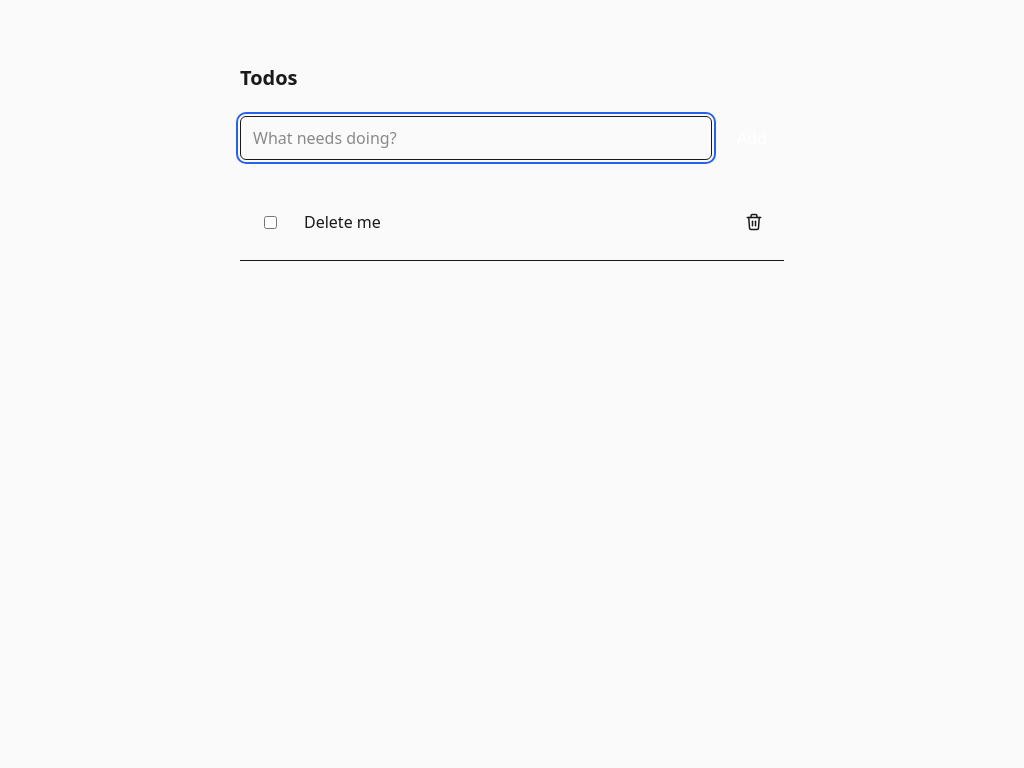
Test case: <App /> integration — full tree with mocked fetch › delete failure → modal stays open with InlineError, Retry succeeds → row removed, modal closes (AC8/9)
Expected: the text "Delete me" is shown, [304,211,381,233]
Click the button named "Delete todo: Delete me": (754, 222) [732,200,776,244]
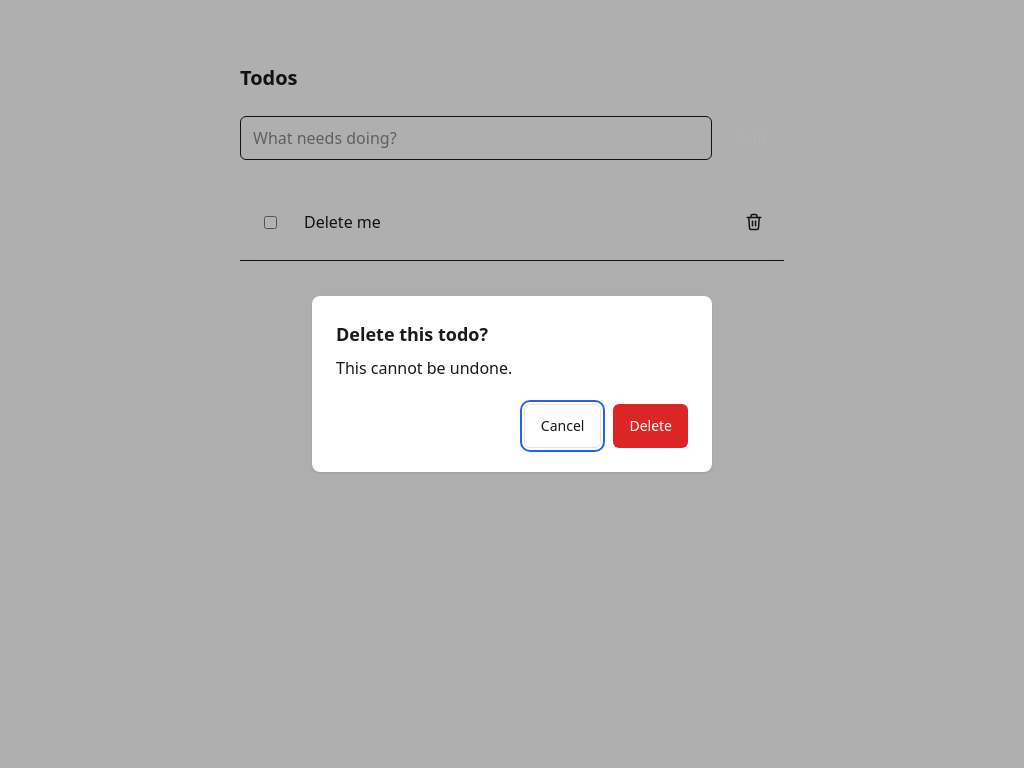
Click the button "Delete": (651, 426) [613,404,688,448]
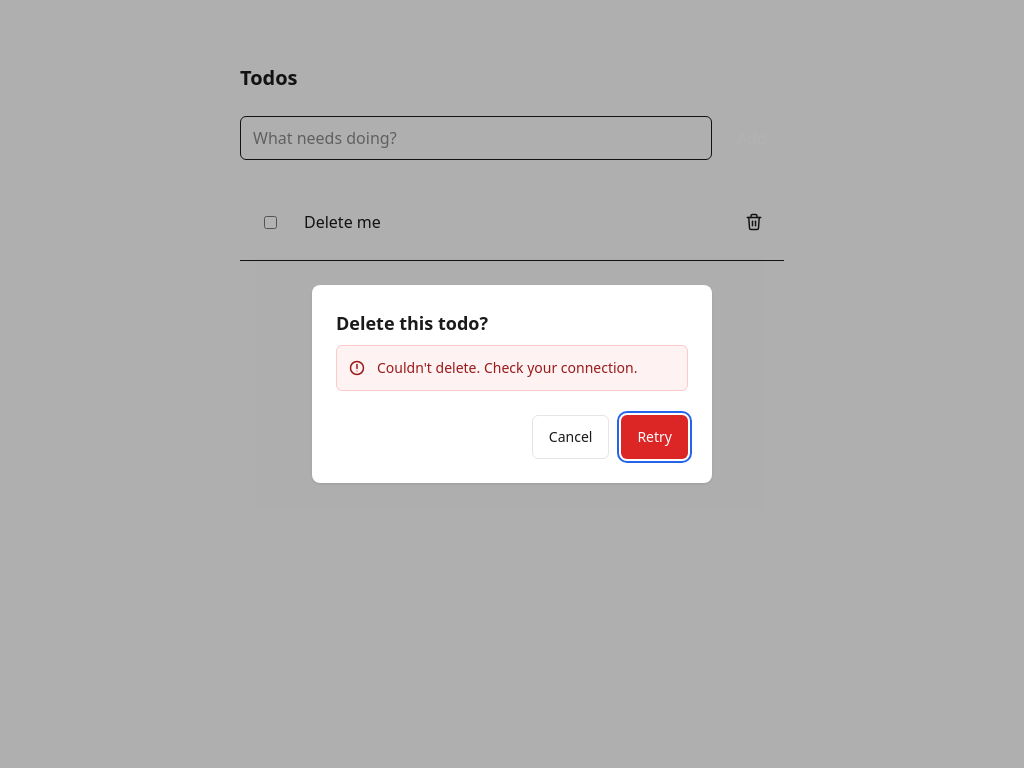
Expected: the message does not show "boom", [336,345,688,391]
Expected: the message reads "Couldn't delete. Check your connection.", [377,358,638,377]
Expected: the button "Retry" is shown
Click the button "Retry": (655, 437) [621,415,688,459]
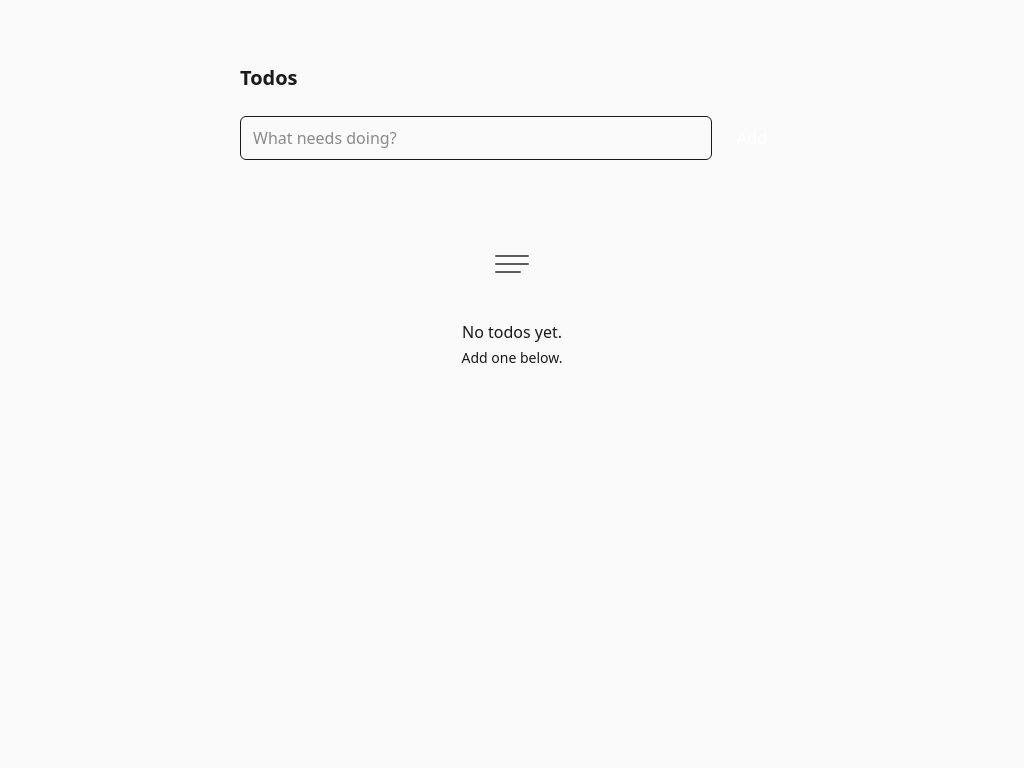
Expected: the dialog is gone
Expected: the text "Delete me" is gone
